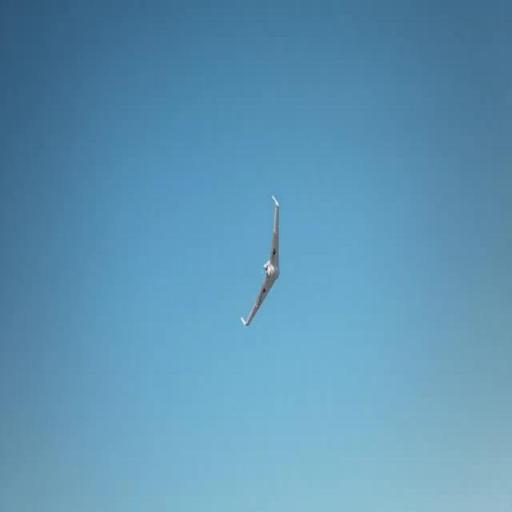uav: (240, 192, 285, 333)
